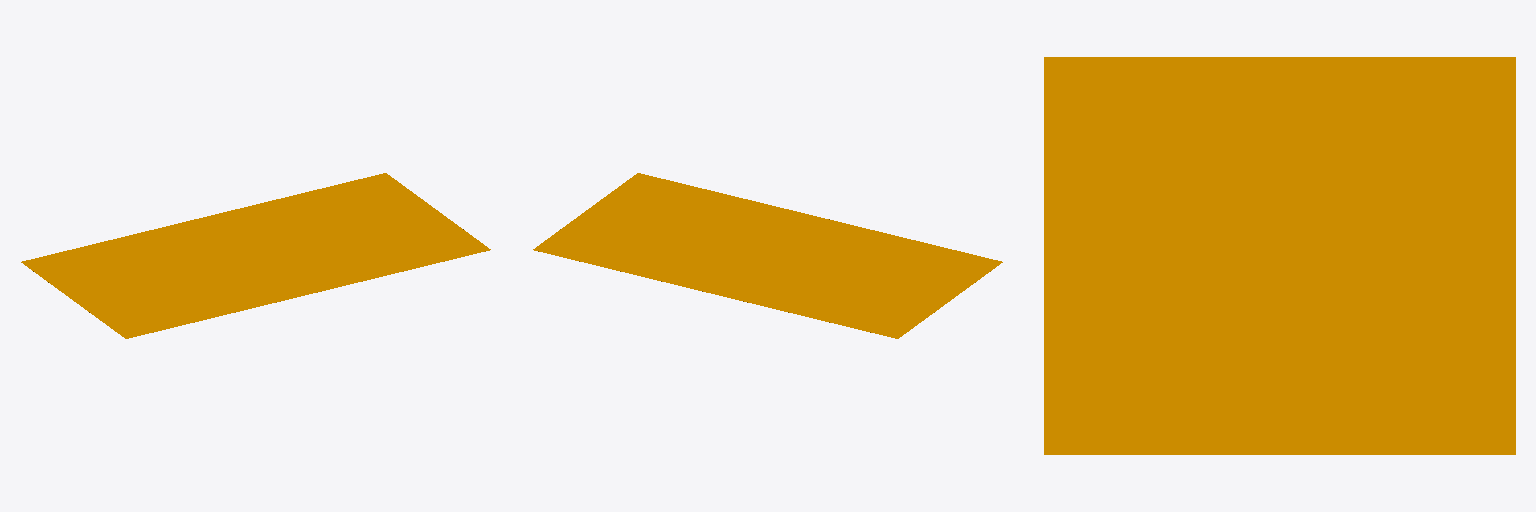
URDF robot description (region1):
<?xml version="1.0"?>
<robot name="region1">
  <material name="Wood">
    <color rgba="0.827 0.675 0.463 1.0"/>
  </material>
  <material name="LightWood">
    <color rgba="0.992, 0.871, 0.682, 1.0"/>
  </material>
  <material name="Metal">
    <color rgba="0.718, 0.753, 0.749, 1.0"/>
  </material>
  <link name="base_link">
    <visual>
      <origin xyz="0 0 0" rpy="0 0 0" />
      <geometry>
        <box size="0.6 0.3 0.00005" />
      </geometry>
      <material name="LightWood"/>
    </visual>
    <collision>
      <origin xyz="0 0 0" rpy="0 0 0" />
      <geometry>
        <box size="0.6 0.3 0.005" />
      </geometry>
    </collision>
  </link>
</robot>

--- Facts derived from the render (not from the file) ---
Views: 3 orthographic renders of the robot side by side, from view 1: azimuth 30°, elevation 25°; view 2: azimuth 150°, elevation 25°; view 3: azimuth 270°, elevation 25°.
Model region1 with 1 links and 0 joints (none), rooted at base_link, posed every joint at zero.
Links seen in each view (by area): view 1: base_link; view 2: base_link; view 3: base_link.
Link boxes in pixels (x1,y1,x2,y2): base_link: (21, 173, 490, 338); base_link: (533, 173, 1002, 338); base_link: (1044, 57, 1515, 454).
Size in the robot's own frame: 0.6 by 0.3 by 0 metres.
Geometry: primitives only (box / cylinder / sphere), no mesh files.
